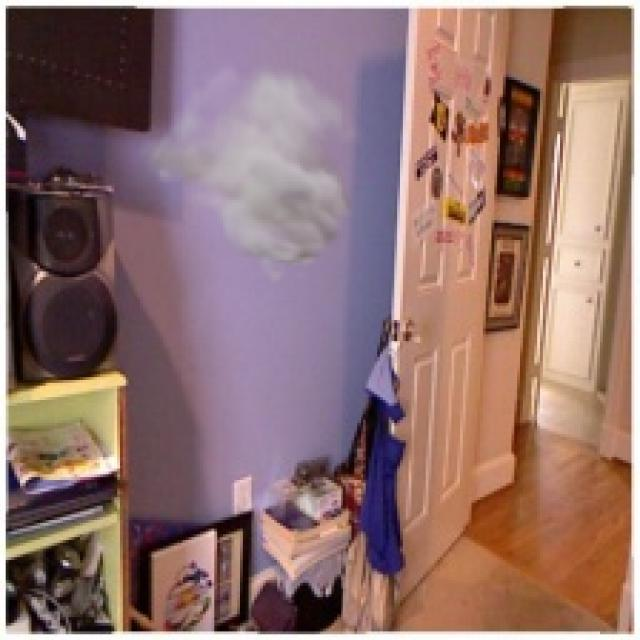Smoke: (132, 57, 374, 286)
